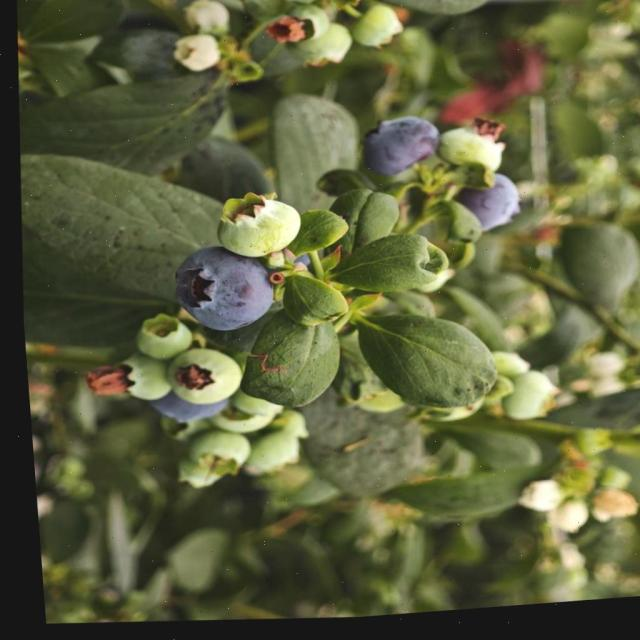RipeBlueBerry: (162, 243, 272, 339), (353, 115, 442, 183), (451, 176, 520, 241)
UnripeBlueBerry: (207, 192, 302, 266), (156, 346, 241, 412), (434, 124, 509, 181)
